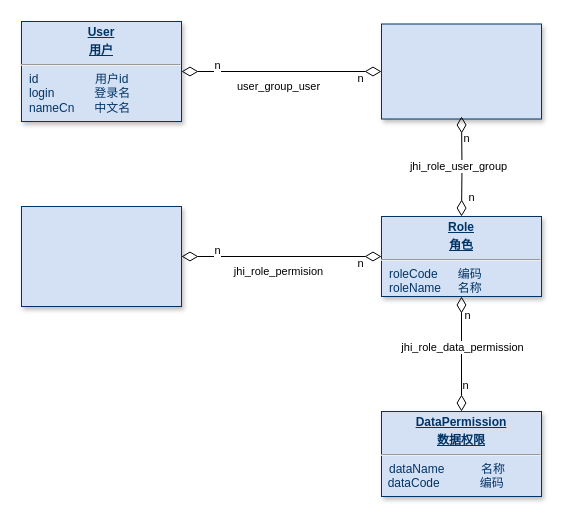
Some shapes in this 565 by 521 pixel diagram are drawn without their labels. Here are the shapes that lost their labels. From the top down, the centre of each, then its label:
pixel 462 72: UserGroup 用户组 groupCode 编码 groupName 名称 parent 父用户组
pixel 102 258: Permission 权限 name 名称 permissionCode 编码 parentId 父级
